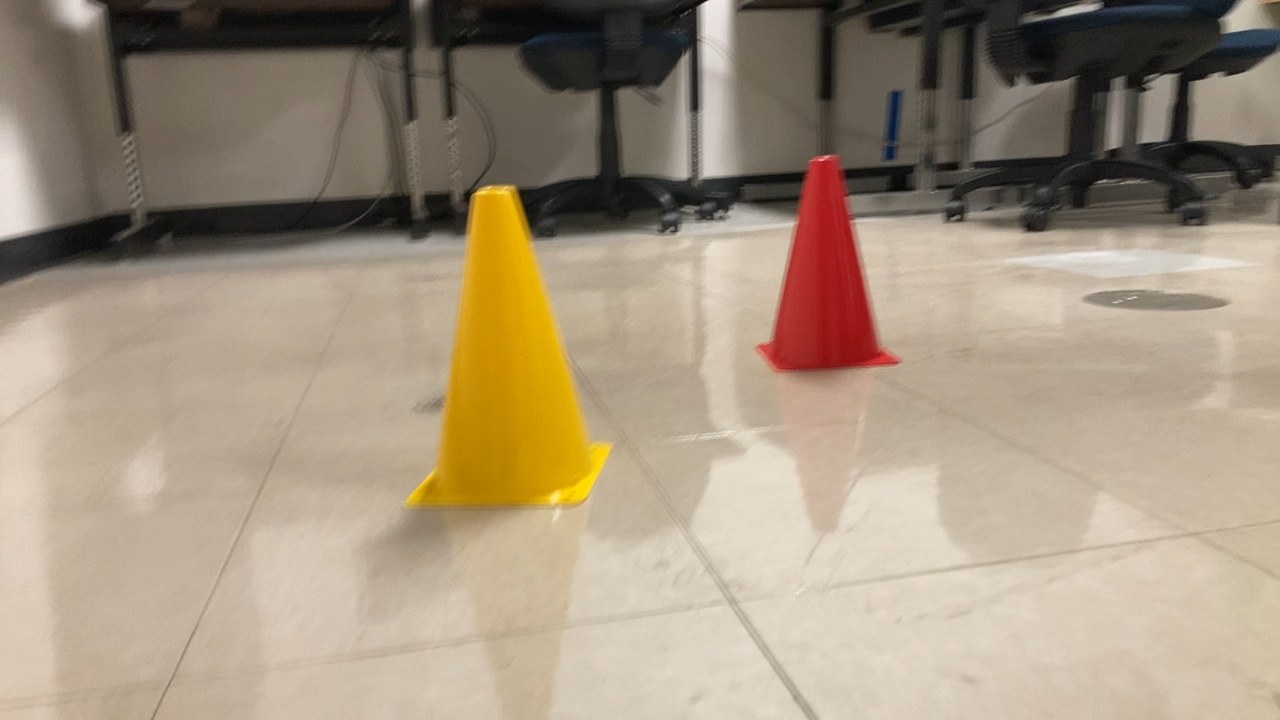red_cone: (753, 150, 903, 377)
yellow_cone: (399, 183, 613, 514)
